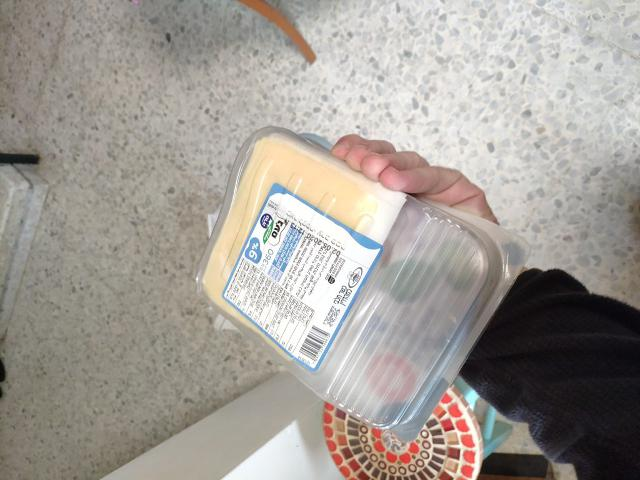cheese: (185, 147, 446, 459)
